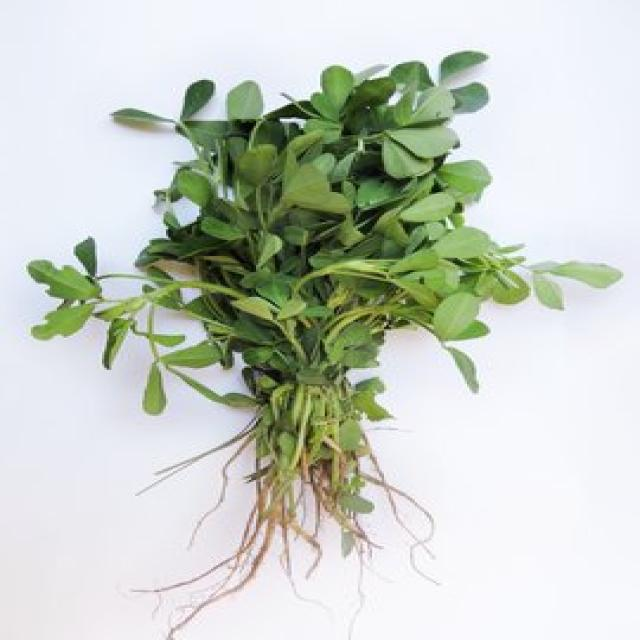Fenugreek: (127, 61, 528, 487)
